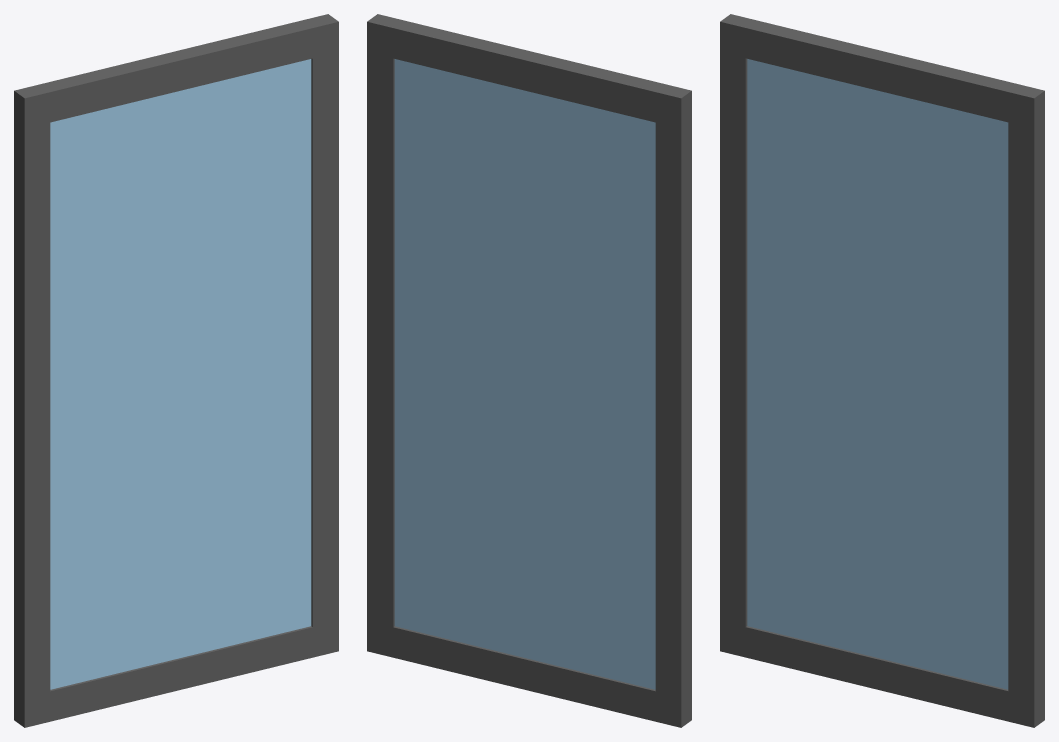
File: SlidingDoor.fbx
3 views of the same model, side by side, from view 1: azimuth 30°, elevation 25°; view 2: azimuth 150°, elevation 25°; view 3: azimuth 330°, elevation 25° (orthographic).
Parts seen in each view (by area): view 1: Cube; view 2: Cube; view 3: Cube.
Part boxes in pixels (left/top/right/bottom): Cube: left=14, top=14, right=338, bottom=727; Cube: left=367, top=14, right=691, bottom=727; Cube: left=720, top=14, right=1044, bottom=727.
Size of the model in its own units: 243 by 465 by 14.13.
